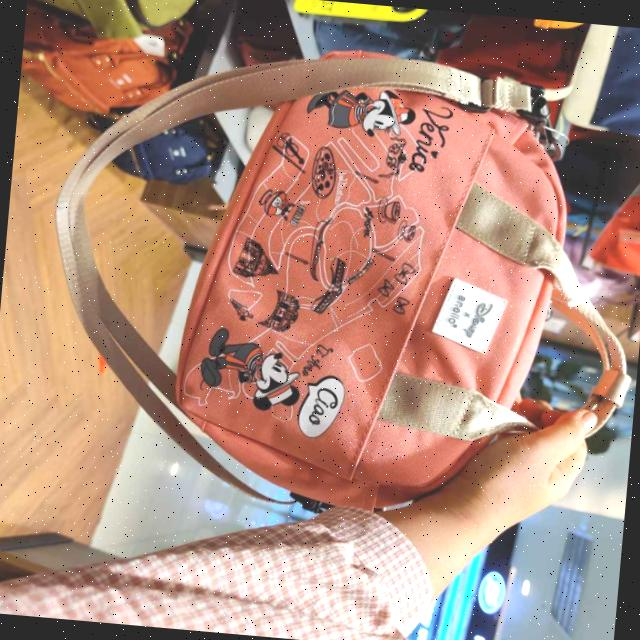Handbag: (165, 38, 640, 532)
